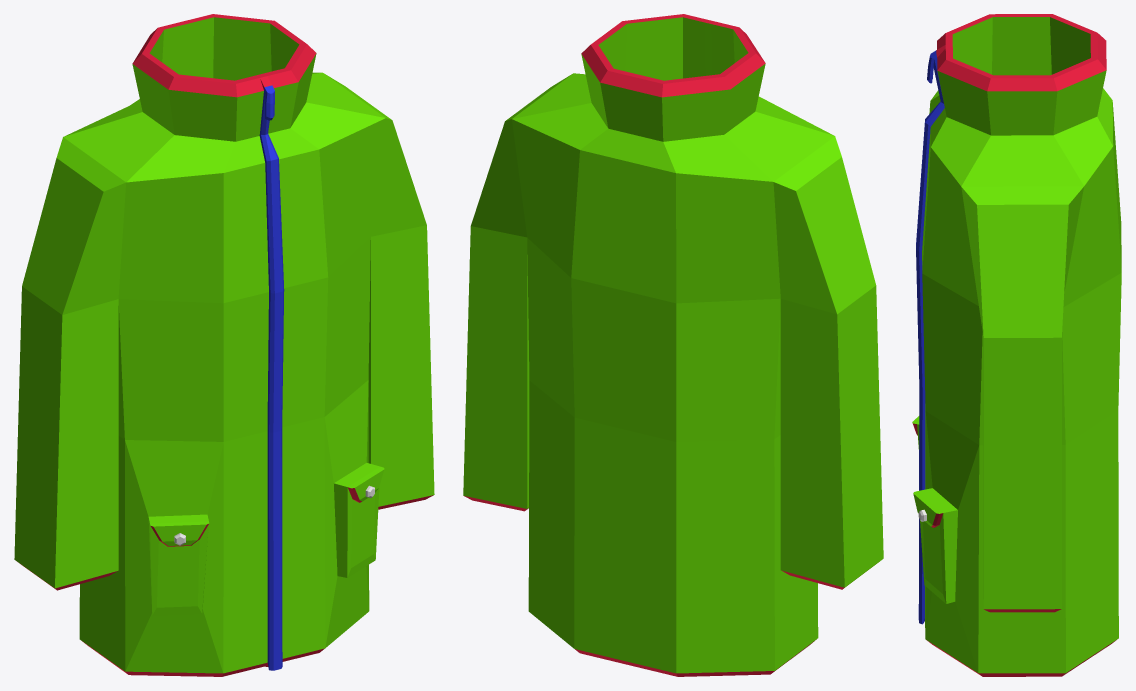
File: Large Green Jacket.fbx
3 views of the same model, side by side, from view 1: azimuth 30°, elevation 25°; view 2: azimuth 150°, elevation 25°; view 3: azimuth 270°, elevation 25° (orthographic).
Visible parts, largest first — view 1: Cylinder.001; view 2: Cylinder.001; view 3: Cylinder.001.
Part boxes in pixels (box(x1,y1,x2,y2)): Cylinder.001: box(14, 14, 434, 676); Cylinder.001: box(463, 14, 883, 676); Cylinder.001: box(912, 14, 1121, 676).
Size of the model in its own units: 464 by 677 by 224.
